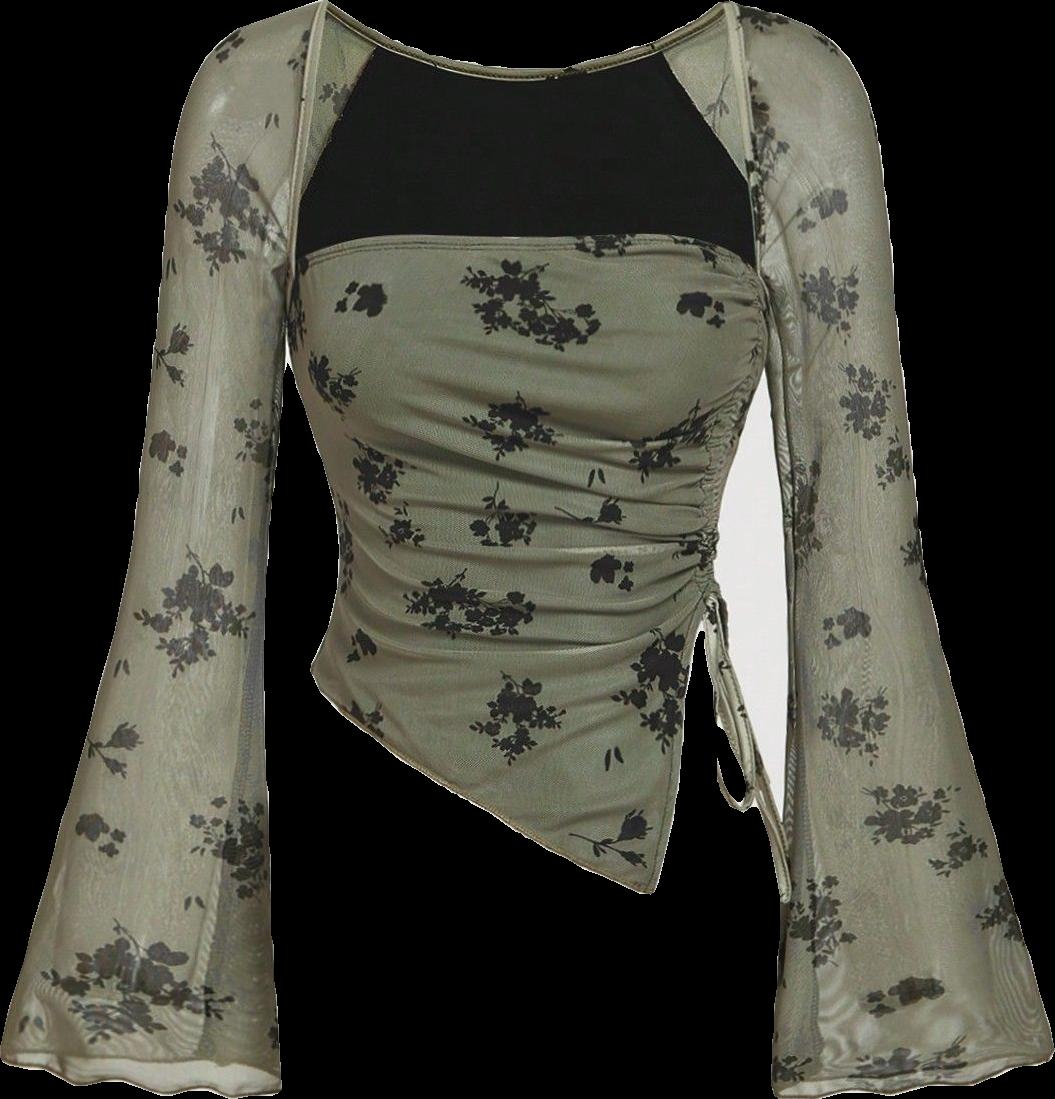Bodice: (288, 233, 793, 902)
Neckline: (283, 226, 766, 283)
Sleeve: (718, 0, 1054, 1098), (0, 0, 330, 1097)
Sleeveline: (279, 0, 333, 280), (715, 0, 766, 278)
Waistline: (306, 620, 786, 907)
